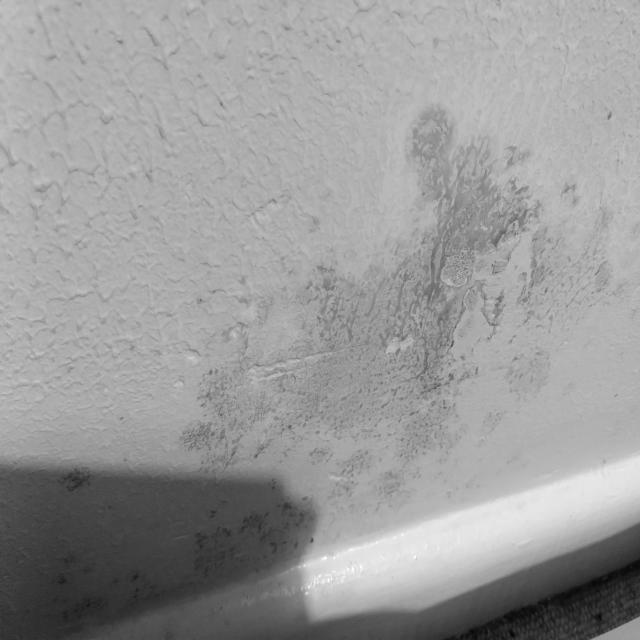stain marks: (0, 97, 640, 619)
